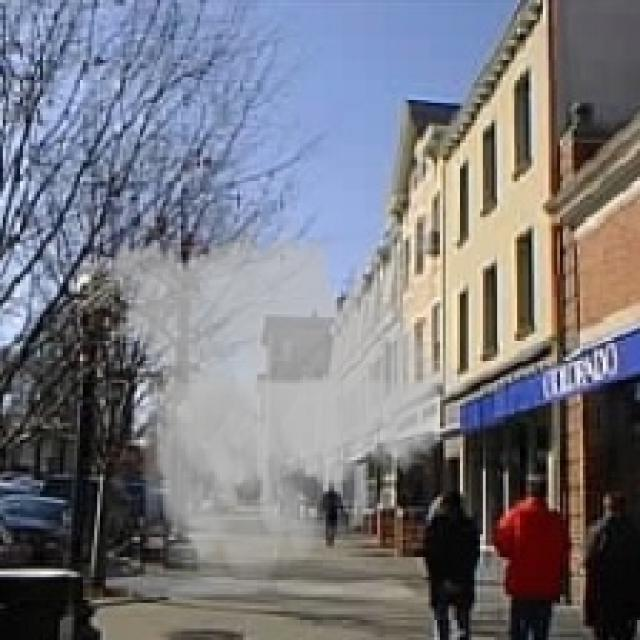Smoke: (86, 217, 472, 592)
